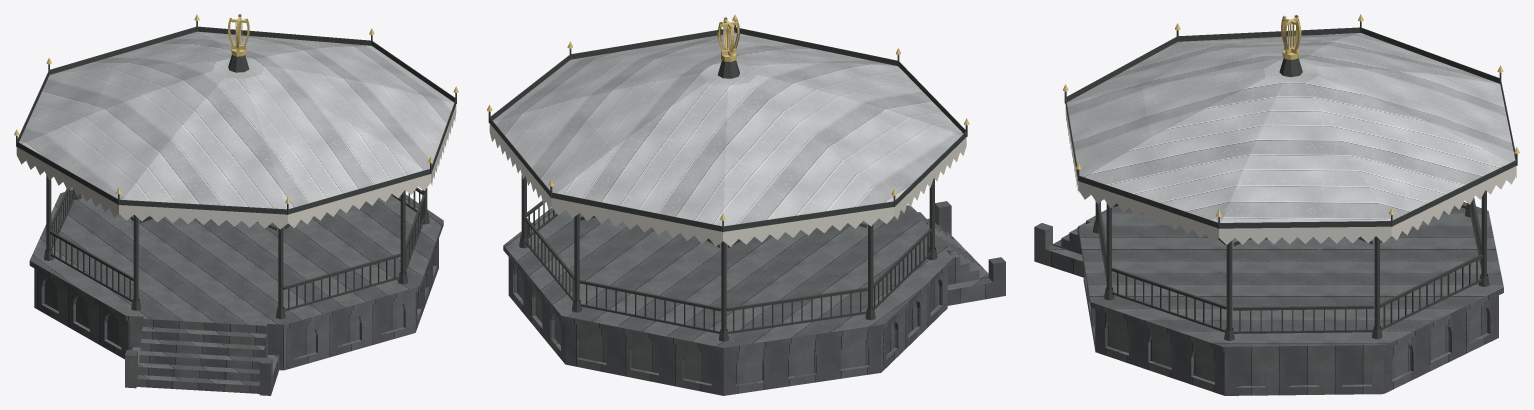
3 renders of one model, left to right at view 1: azimuth 30°, elevation 25°; view 2: azimuth 150°, elevation 25°; view 3: azimuth 270°, elevation 25°, orthographic. The views are drawn at different scales.
Parts seen in each view (by area): view 1: bldg_117235287_landmark; view 2: bldg_117235287_landmark; view 3: bldg_117235287_landmark.
Part boxes in pixels (box(x1,y1,x2,y2)): bldg_117235287_landmark: box(14, 14, 458, 395); bldg_117235287_landmark: box(487, 14, 1005, 395); bldg_117235287_landmark: box(1034, 14, 1519, 395).
Bounding box in the file's own units: 13.47 × 9.16 × 13.93.
Materials: 5 (2 with a texture image).
